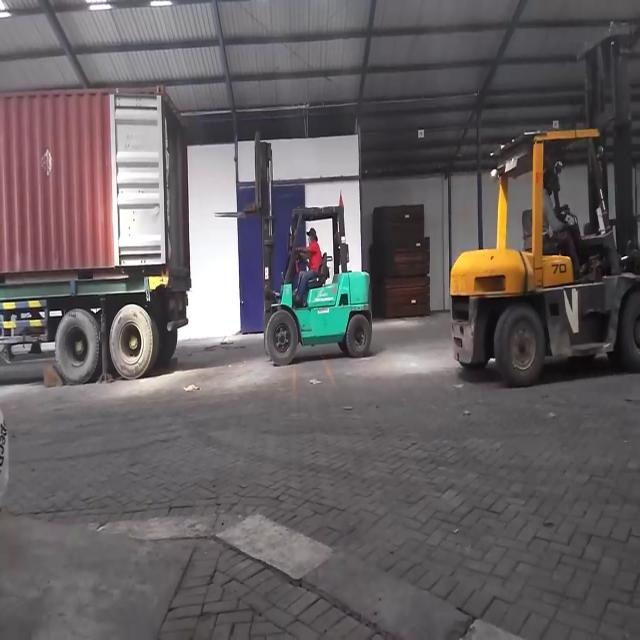Chariot elevateur: (444, 122, 640, 392), (256, 197, 379, 376)
